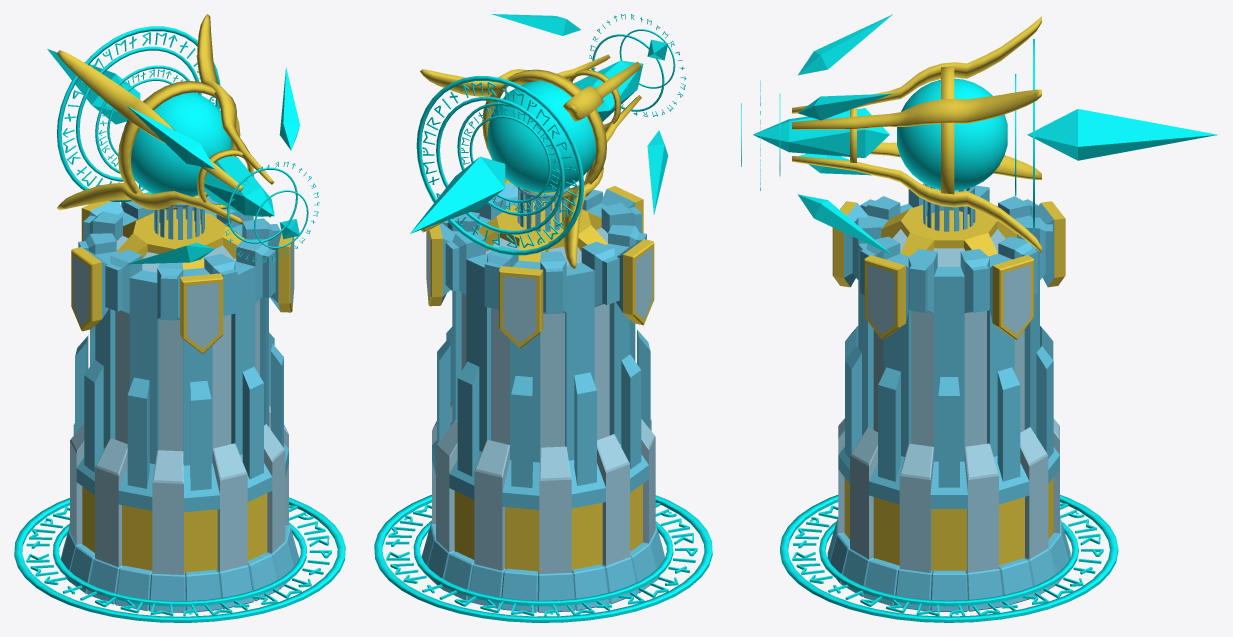
Rendered from MagicTower_3(final).fbx.
3 renders of one model, left to right at view 1: azimuth 30°, elevation 25°; view 2: azimuth 150°, elevation 25°; view 3: azimuth 270°, elevation 25°, orthographic. The views are drawn at different scales.
Parts seen in each view (by area): view 1: 3.Tower, 3.magic.canon; view 2: 3.Tower, 3.magic.canon; view 3: 3.Tower, 3.magic.canon.
Part boxes in pixels (box(x1,y1,x2,y2)): 3.Tower: box(14, 192, 345, 622); 3.magic.canon: box(47, 14, 319, 264); 3.Tower: box(374, 180, 712, 622); 3.magic.canon: box(410, 14, 686, 269); 3.Tower: box(780, 183, 1118, 622); 3.magic.canon: box(741, 14, 1218, 255).
Size of the model in its own units: 183 by 306 by 258.
